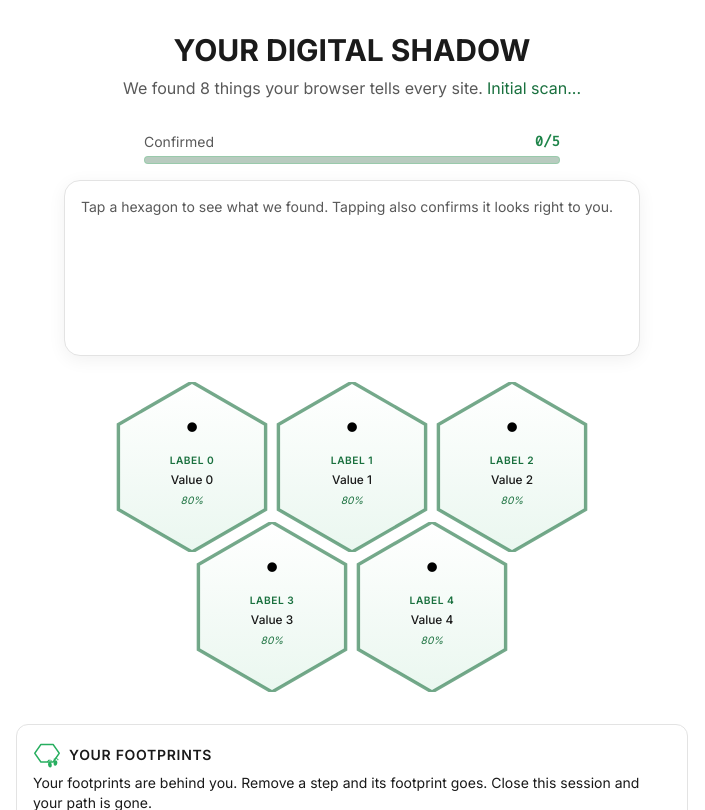
Test case: the footprints cue (the Path) › removing a footprint forgets the step: progress goes down and the hexagon can be stepped on again
The width and height of the screenshot is (705, 810).
What coordinates should you click on to do the following:
click the button "• Label 0 Value 0 80%"
I would click on:
 (192, 467)
Its box is [107,382,277,552].
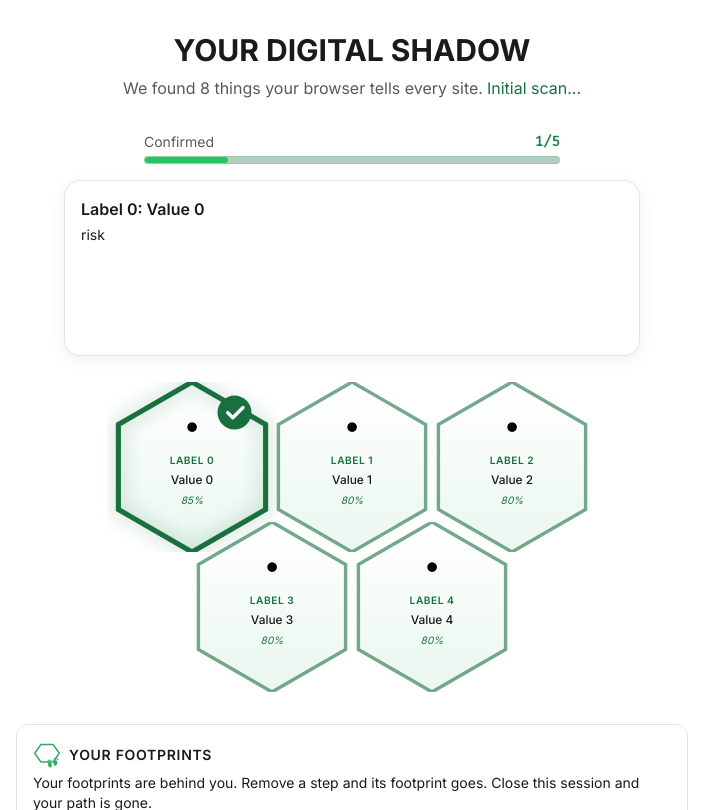
What coordinates should you click on to do the following:
click the button "• Label 1 Value 1 80%"
I would click on:
 (352, 467)
Its box is [267,382,437,552].
(page scrolled)
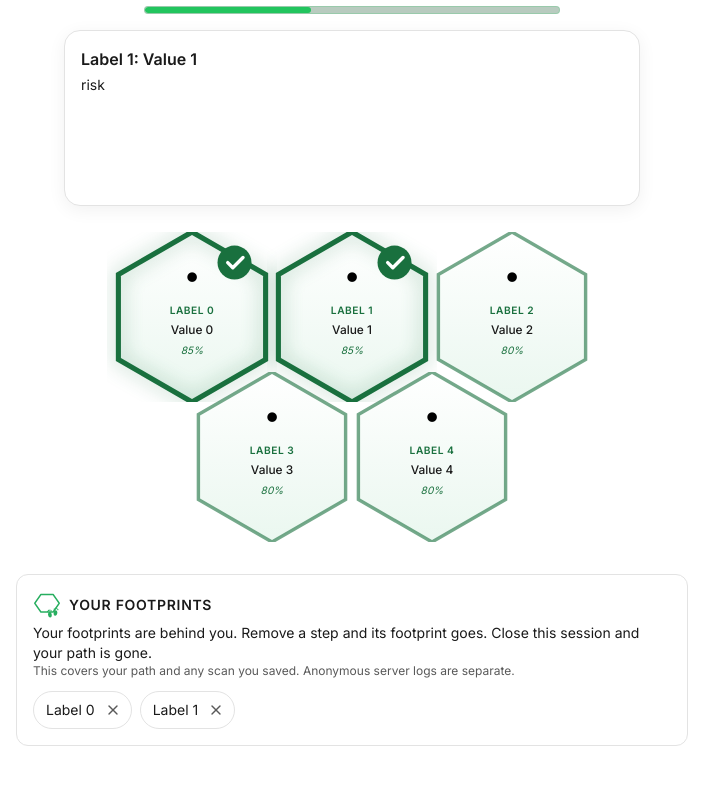
What coordinates should you click on to do the following:
click the button named "Remove footprint: Label 0"
I would click on:
 (113, 710)
Its box is [99,696,127,724].
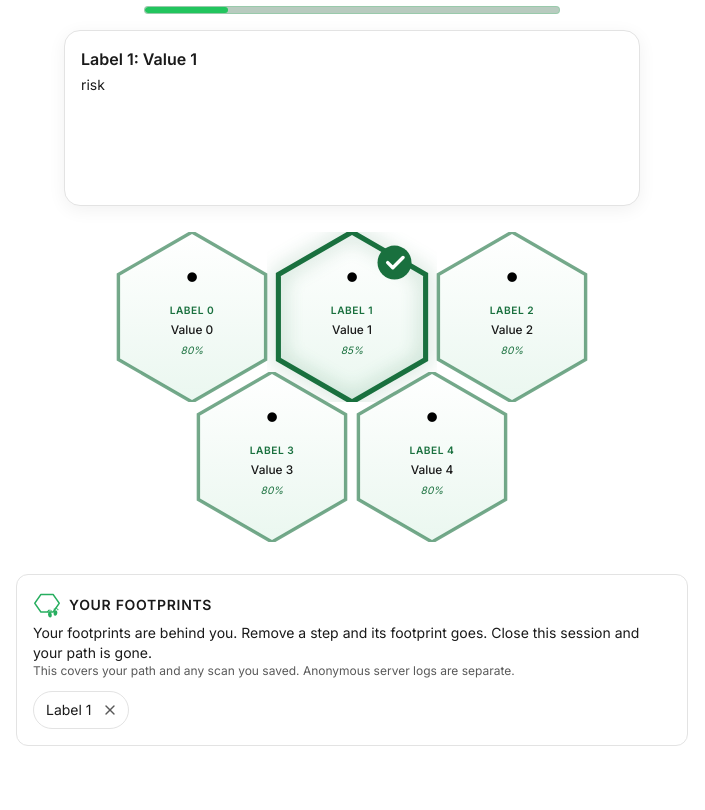
expect the list item with test id "footprint-hex-1" is shown: met, box [33,690,128,728]
expect the list item with test id "footprint-hex-0" is gone: met
What coordinates should you click on to do the following:
click the button "• Label 0 Value 0 80%"
I would click on:
 (192, 317)
Its box is [107,232,277,402].
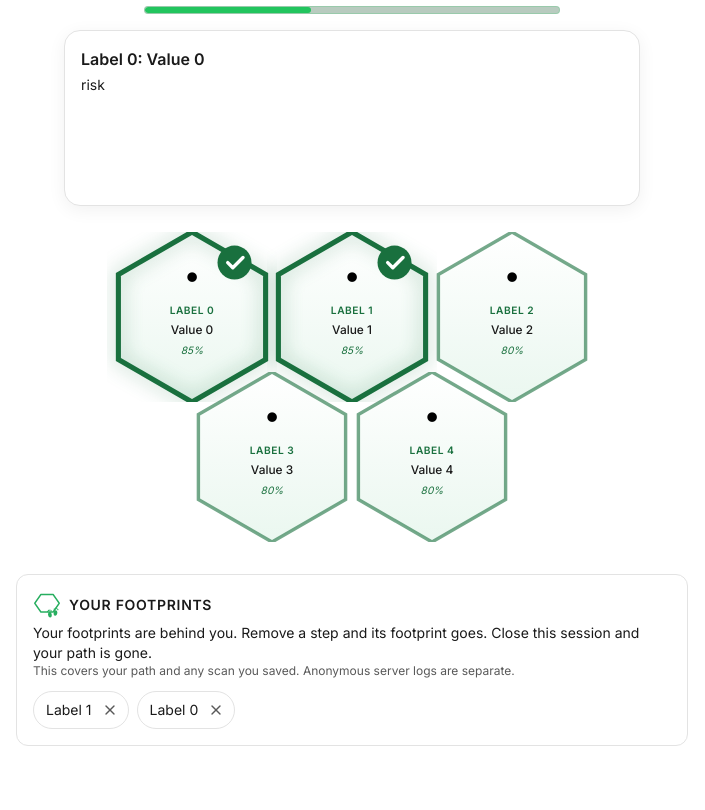
expect the list item with test id "footprint-hex-0" is shown: met, box [136,690,235,728]
